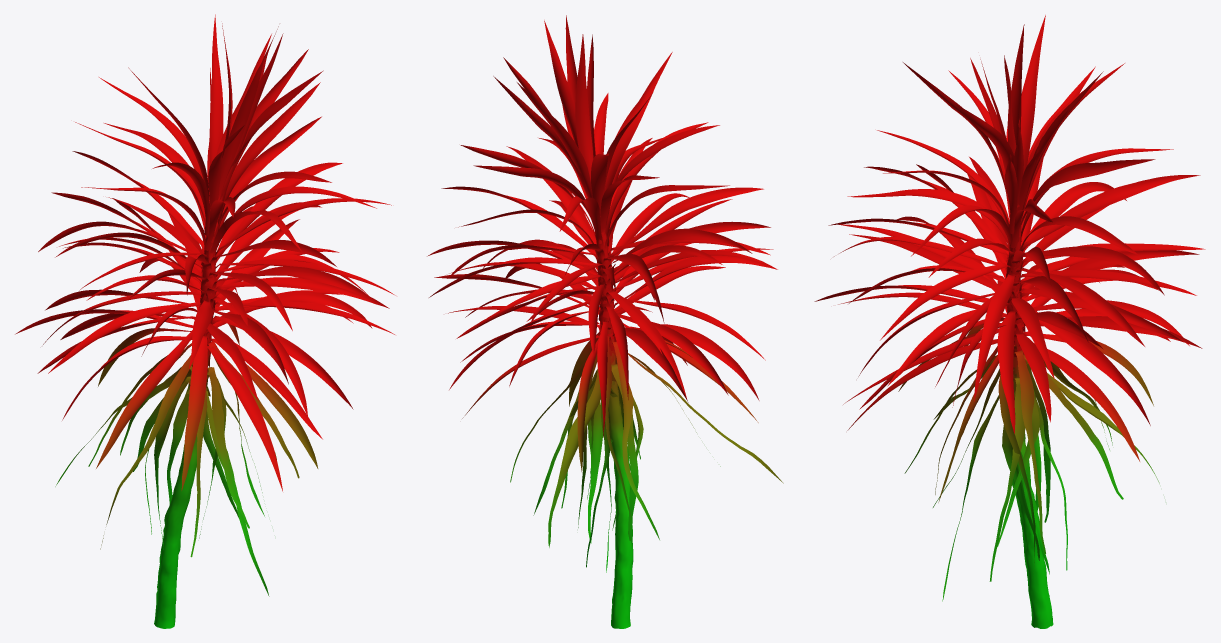
The model's file is Var1_LOD0.fbx.
3 views of the same model, side by side, from view 1: azimuth 30°, elevation 25°; view 2: azimuth 150°, elevation 25°; view 3: azimuth 270°, elevation 25° (orthographic). The views are drawn at different scales.
Visible parts, largest first — view 1: _5v8q_Var1_LOD0; view 2: _5v8q_Var1_LOD0; view 3: _5v8q_Var1_LOD0.
Part boxes in pixels (<box>): _5v8q_Var1_LOD0: <box>15,14,395,628</box>; _5v8q_Var1_LOD0: <box>427,15,783,628</box>; _5v8q_Var1_LOD0: <box>814,15,1205,628</box>.
Bounding box in the file's own units: 80.78 × 146 × 82.91.
